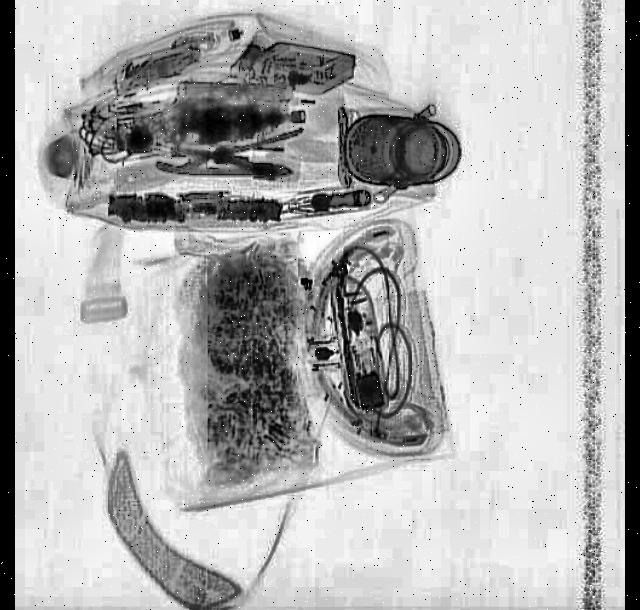Pliers: (158, 144, 296, 188)
